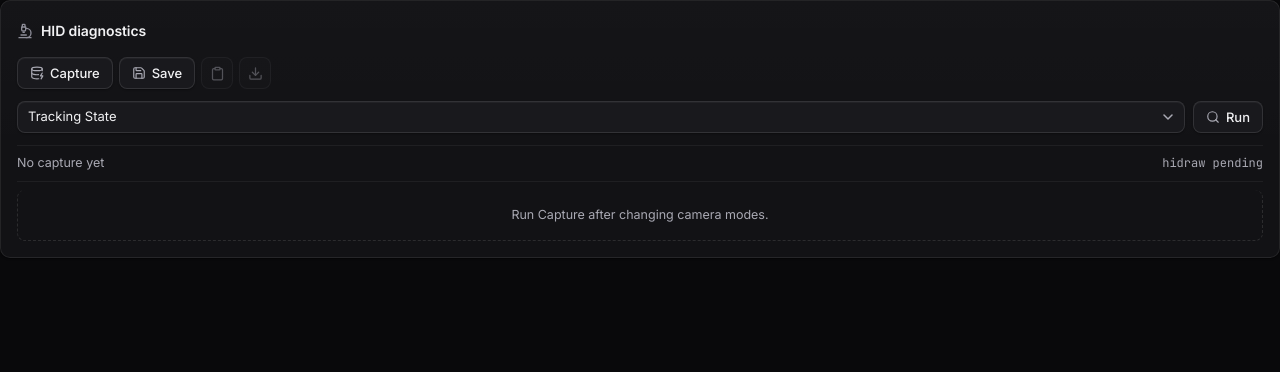
Test: HidDiagnosticsPanel › saves a diagnostic snapshot through the backend
Click the button "Save" at coordinates (157, 73), box [119,57,195,89]
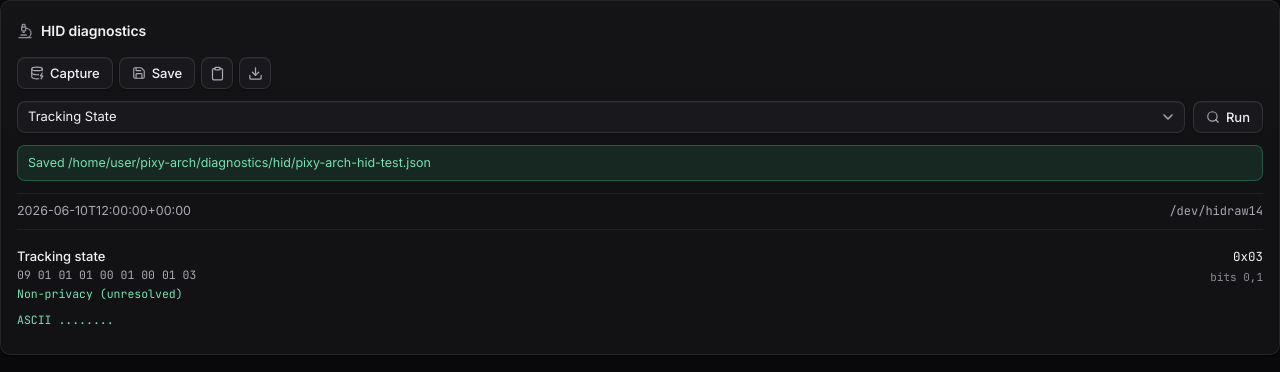
Expected: the text "diagnostics/hid/pixy-arch-hid-test.json" is shown, [28,155,431,170]
